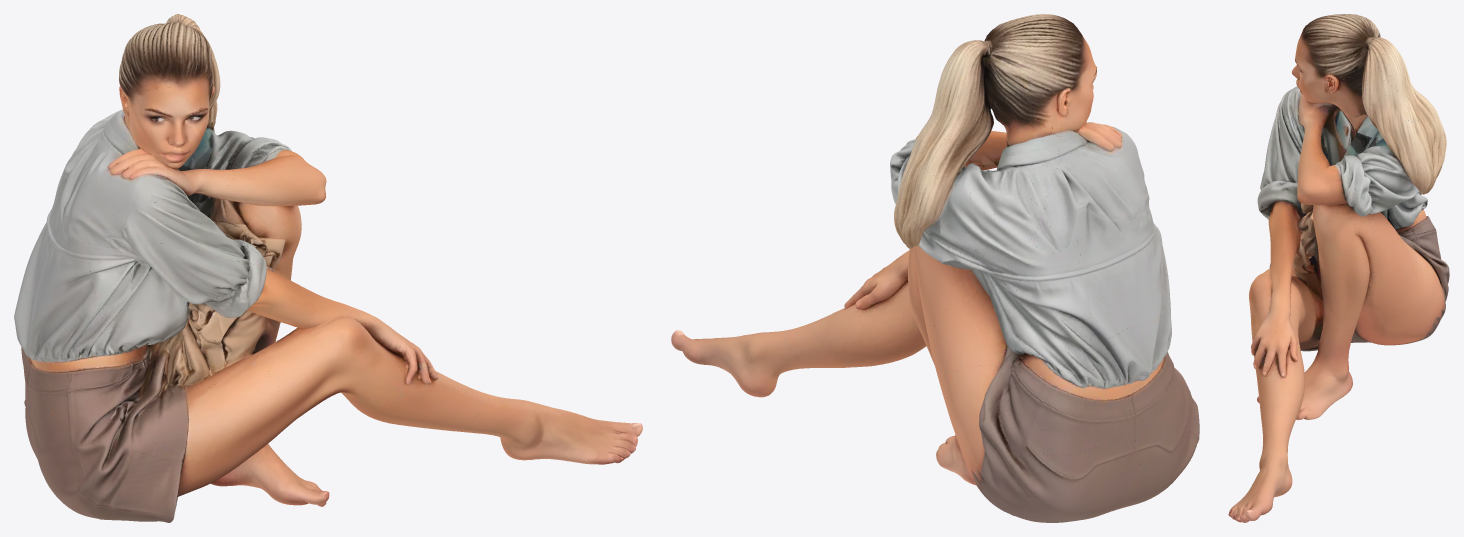
The model's file is pose-floor.glb.
3 renders of one model, left to right at view 1: azimuth 30°, elevation 25°; view 2: azimuth 150°, elevation 25°; view 3: azimuth 270°, elevation 25°, orthographic. The views are drawn at different scales.
Visible parts, largest first — view 1: Object_4; view 2: Object_4; view 3: Object_4.
Boxes of the visible parts, bbox=[...] form: Object_4: bbox=[14, 14, 642, 522]; Object_4: bbox=[671, 14, 1199, 522]; Object_4: bbox=[1228, 14, 1449, 522].
Size of the model in its own units: 1.9 by 1.58 by 0.8726.
Materials: 1 (1 with a texture image).
